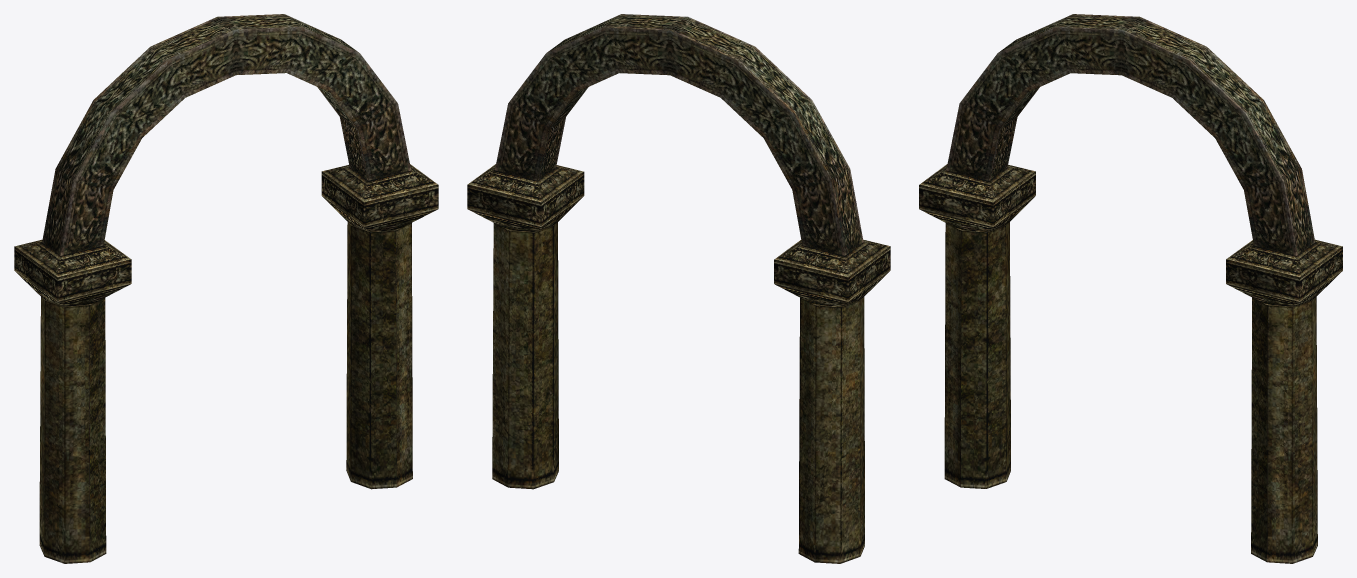
File: cem_arc.glb
The picture shows the model from 3 angles, left to right: view 1: azimuth 30°, elevation 25°; view 2: azimuth 150°, elevation 25°; view 3: azimuth 330°, elevation 25°; orthographic projection.
Visible parts, largest first — view 1: cem_arc-col; view 2: cem_arc-col; view 3: cem_arc-col.
Part boxes in pixels (x1,y1,x2,y2): cem_arc-col: [14, 14, 438, 563]; cem_arc-col: [467, 14, 890, 563]; cem_arc-col: [919, 14, 1342, 563].
Bounding box in the file's own units: 5.4 × 6.61 × 1.05.
1 material, 1 textured.
